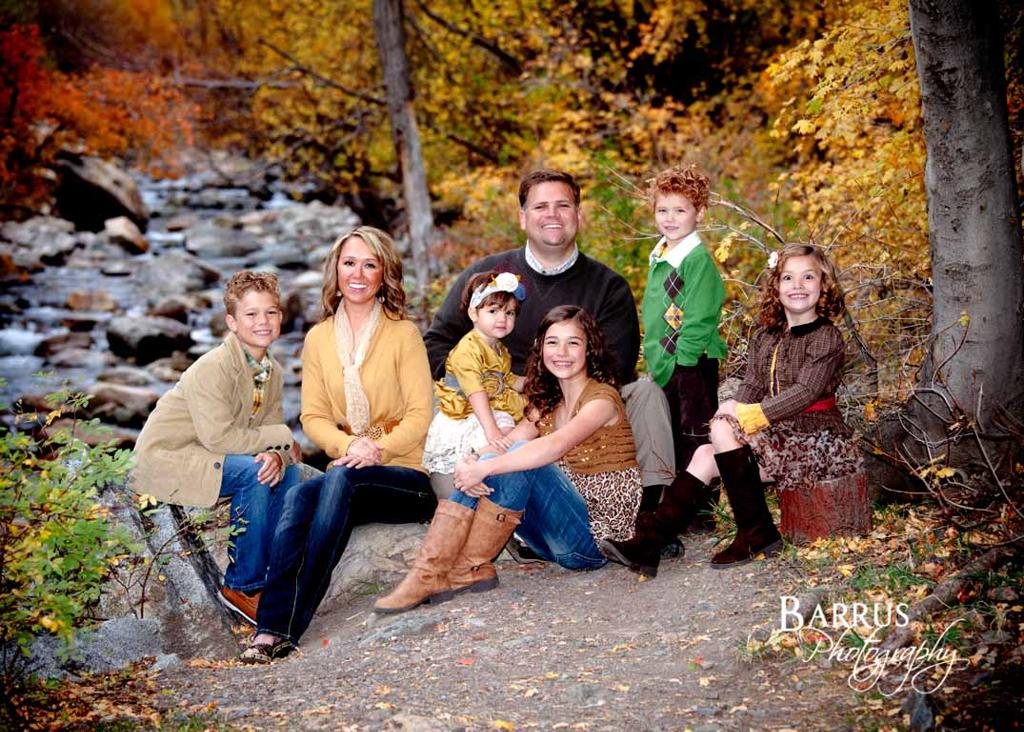face: (526, 188, 576, 242), (338, 245, 382, 301), (235, 294, 280, 345), (543, 328, 586, 376), (781, 261, 818, 309), (653, 194, 694, 237), (481, 300, 514, 336)
